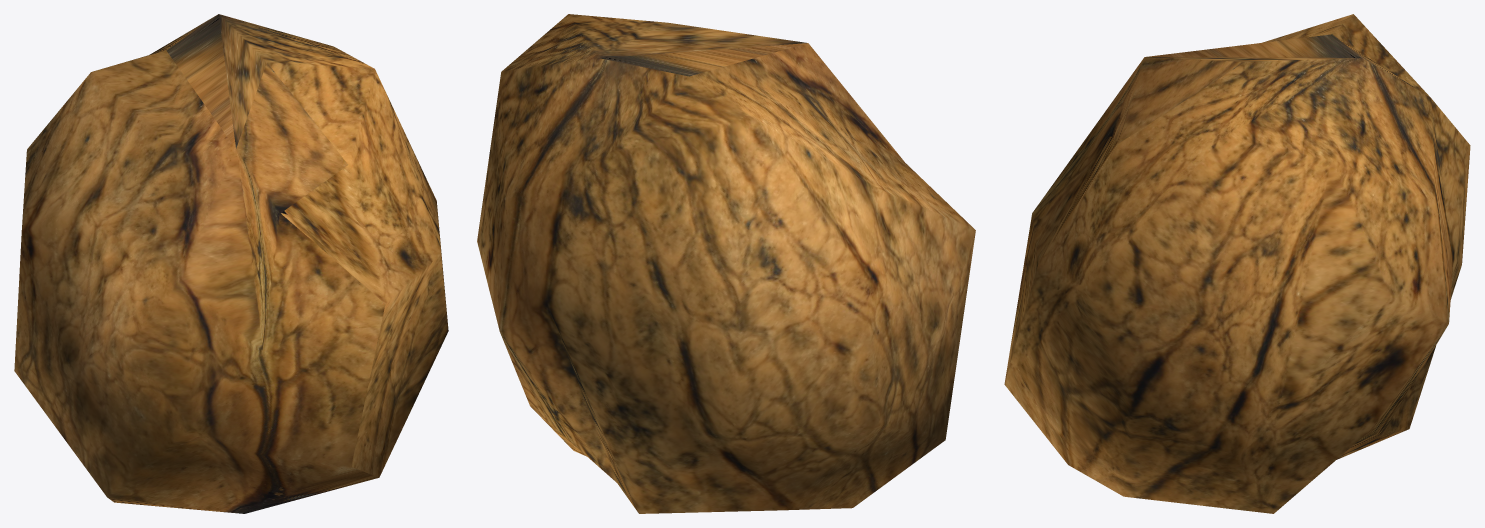
The model's file is Walnut.fbx.
3 views of the same model, side by side, from view 1: azimuth 30°, elevation 25°; view 2: azimuth 150°, elevation 25°; view 3: azimuth 270°, elevation 25° (orthographic). The views are drawn at different scales.
Visible parts, largest first — view 1: Walnut01.003; view 2: Walnut01.003; view 3: Walnut01.003.
Part boxes in pixels (left/top/right/bottom): Walnut01.003: left=14, top=14, right=448, bottom=513; Walnut01.003: left=477, top=14, right=975, bottom=513; Walnut01.003: left=1004, top=14, right=1470, bottom=513.
Size of the model in its own units: 1.77 by 1.9 by 1.79.
Materials: 1 (1 with a texture image).
